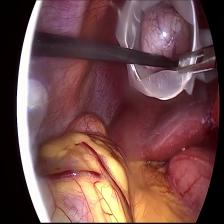Grasper: (177, 44, 216, 80)
Specimen Bag: (114, 0, 216, 112)
